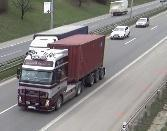Car: (110, 24, 131, 40), (135, 18, 149, 28)
Truck: (18, 33, 105, 112), (28, 23, 90, 57), (109, 0, 130, 15)
